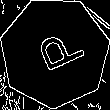P_SW: (25, 25, 84, 80)
